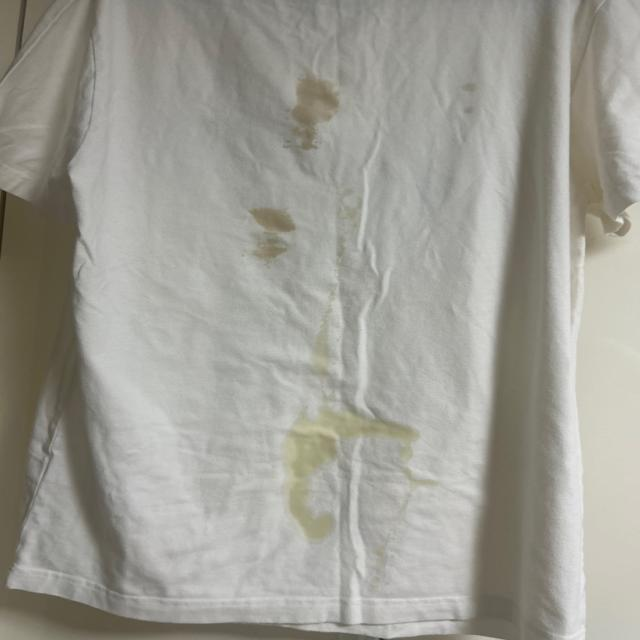stain: (291, 398, 327, 549), (306, 407, 404, 456), (286, 77, 334, 151), (397, 446, 452, 502), (249, 204, 291, 260), (314, 296, 343, 372), (456, 78, 491, 128), (336, 188, 371, 237)
